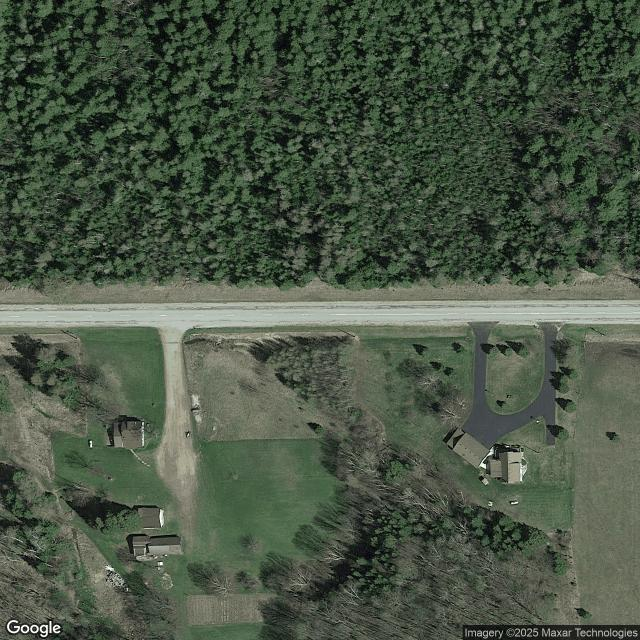Propane: (510, 501, 519, 505), (89, 440, 93, 448)
